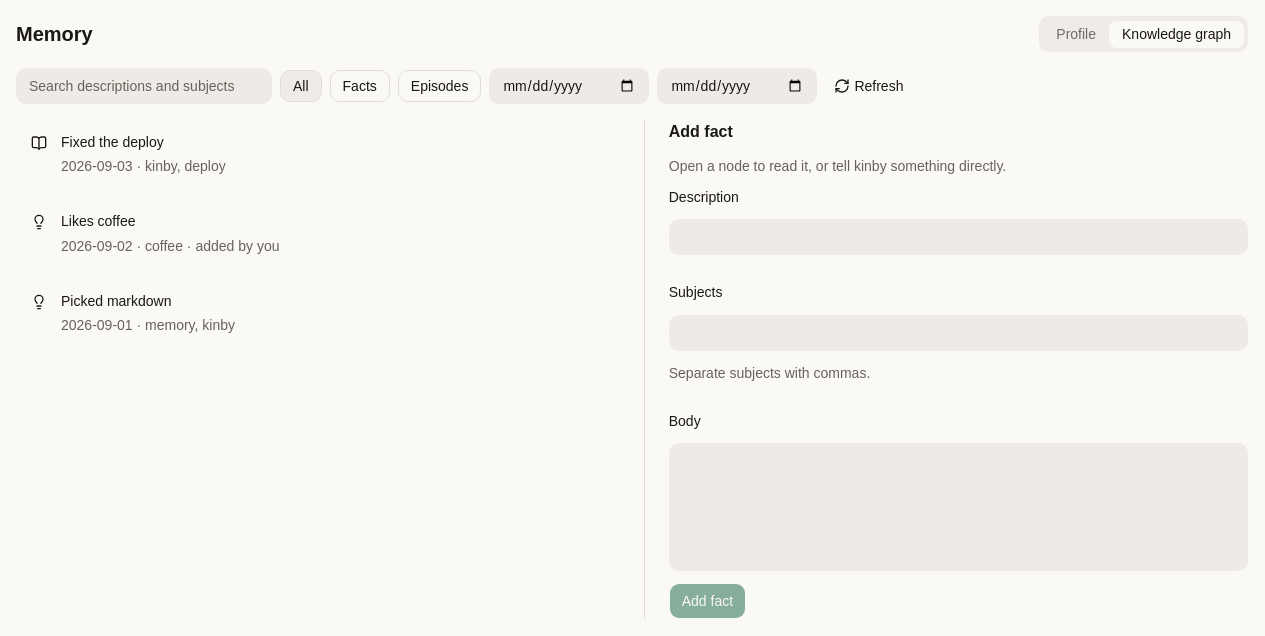
Test case: the memory page › lists the knowledge graph as the instance orders it and opens a node in the pane
Click the button "Picked markdown 2026-09-01 · memory, kinby". click: x=116, y=300
box: x1=16 y1=278 x2=620 y2=348
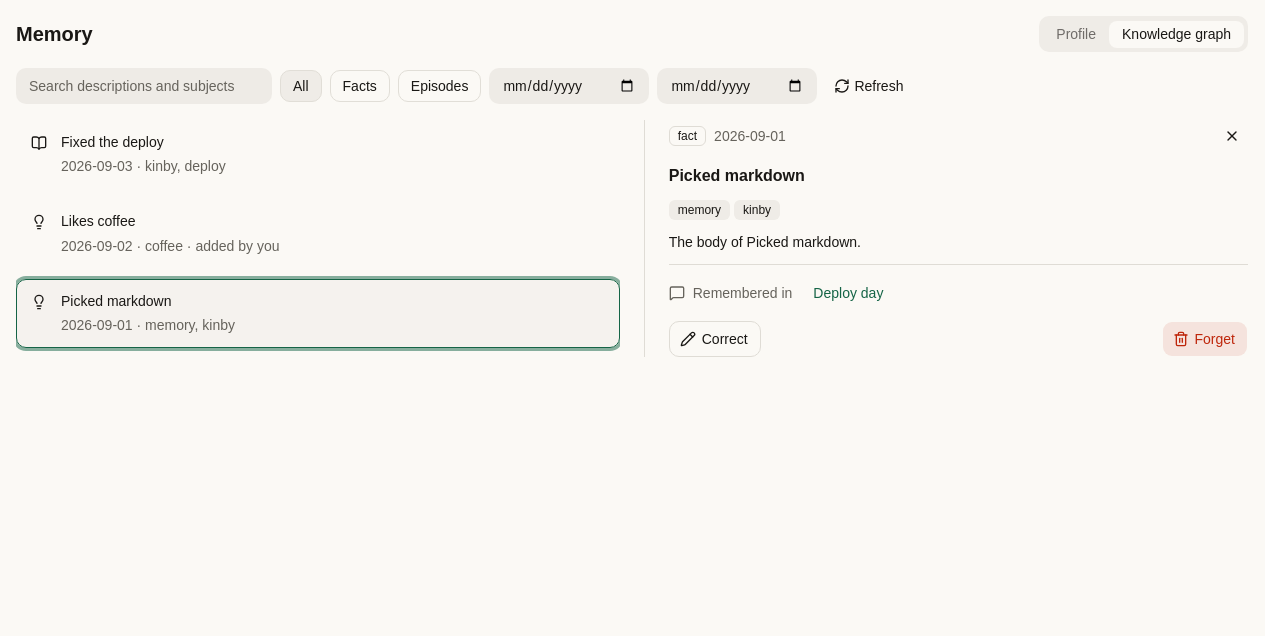
Expected: the text "The body of Picked markdown." is shown, x1=669 y1=234 x2=861 y2=250
Expected: the heading "Picked markdown" is shown, x1=669 y1=167 x2=805 y2=184
Expected: the text "2026-09-01" is shown, x1=714 y1=126 x2=786 y2=146
